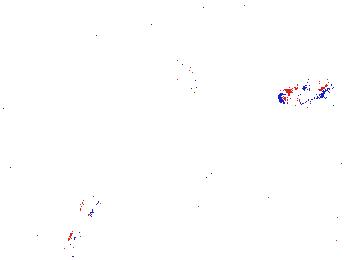X-ray fish: (167, 58, 202, 98)
glassfish: (180, 132, 276, 201), (66, 159, 123, 250)
red belly glassfish: (279, 86, 326, 107)
redtail glassfish: (139, 4, 209, 34)
